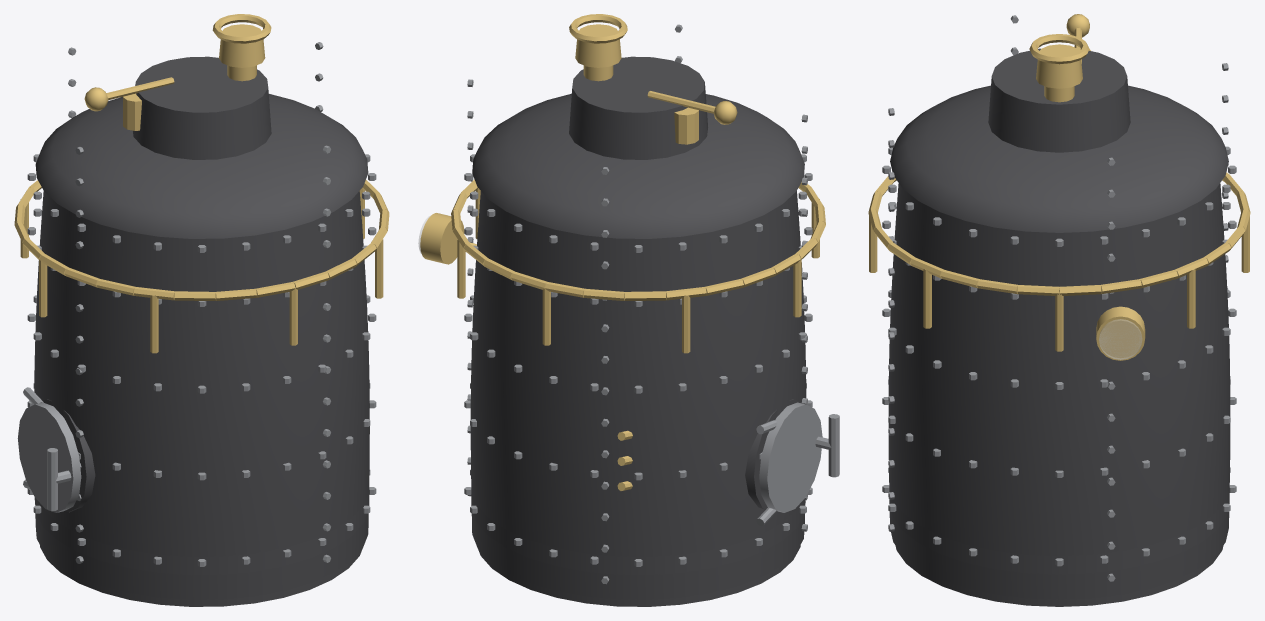
Rendered from Boiler.glb.
The picture shows the model from 3 angles, left to right: view 1: azimuth 30°, elevation 25°; view 2: azimuth 150°, elevation 25°; view 3: azimuth 270°, elevation 25°; orthographic projection.
Visible parts, largest first — view 1: Boiler; view 2: Boiler; view 3: Boiler.
Part boxes in pixels (x1,y1,x2,y2): Boiler: (14,14,389,606); Boiler: (418,14,839,606); Boiler: (868,14,1250,606).
Size of the model in its own units: 0.8892 by 1.2 by 0.8119.
